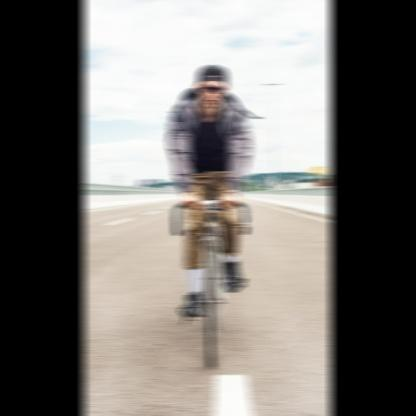Bicycle: (126, 153, 285, 381)
